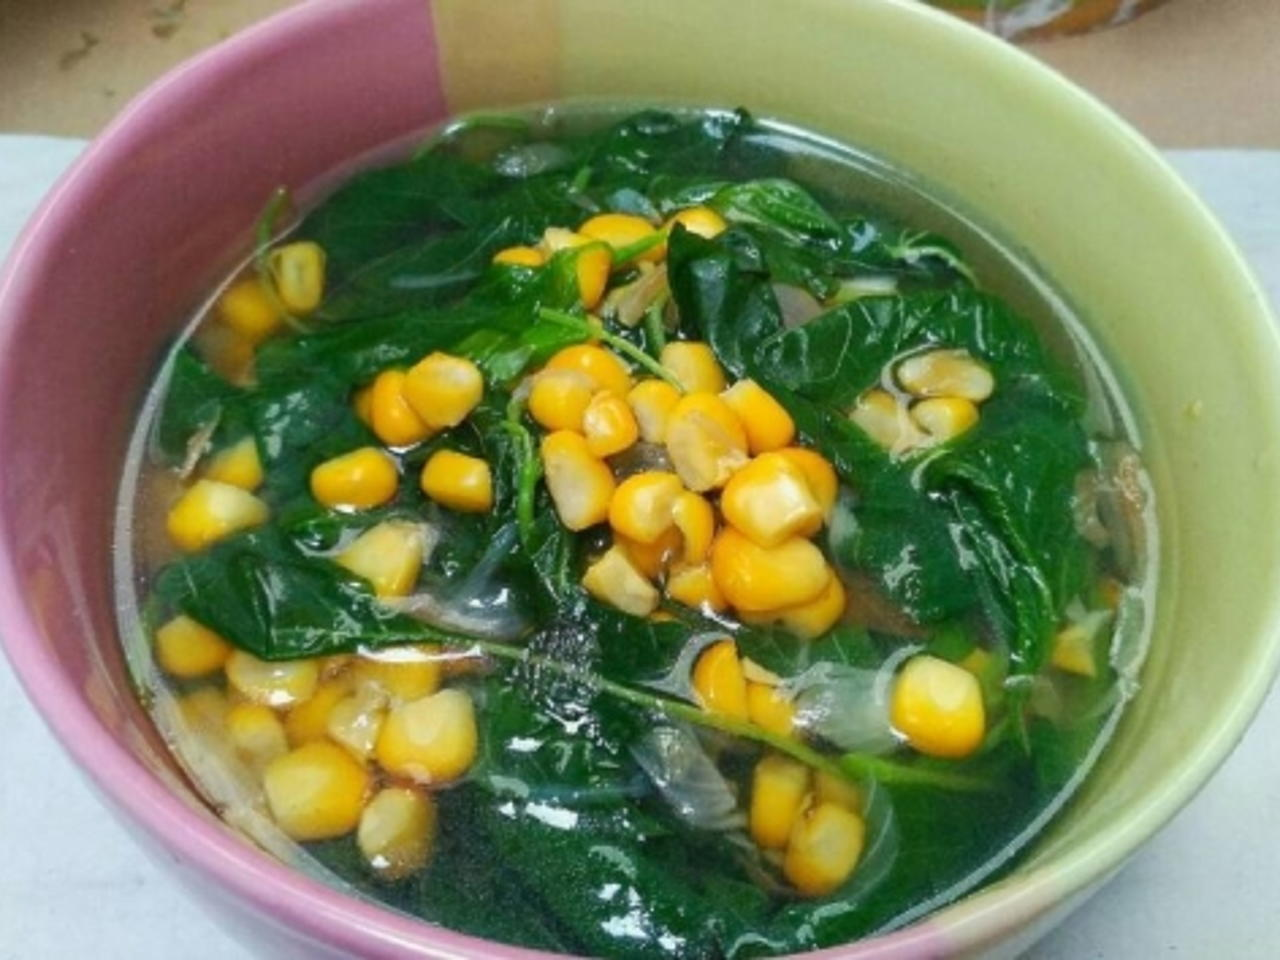Sayur Bayam: (112, 139, 1118, 960)
